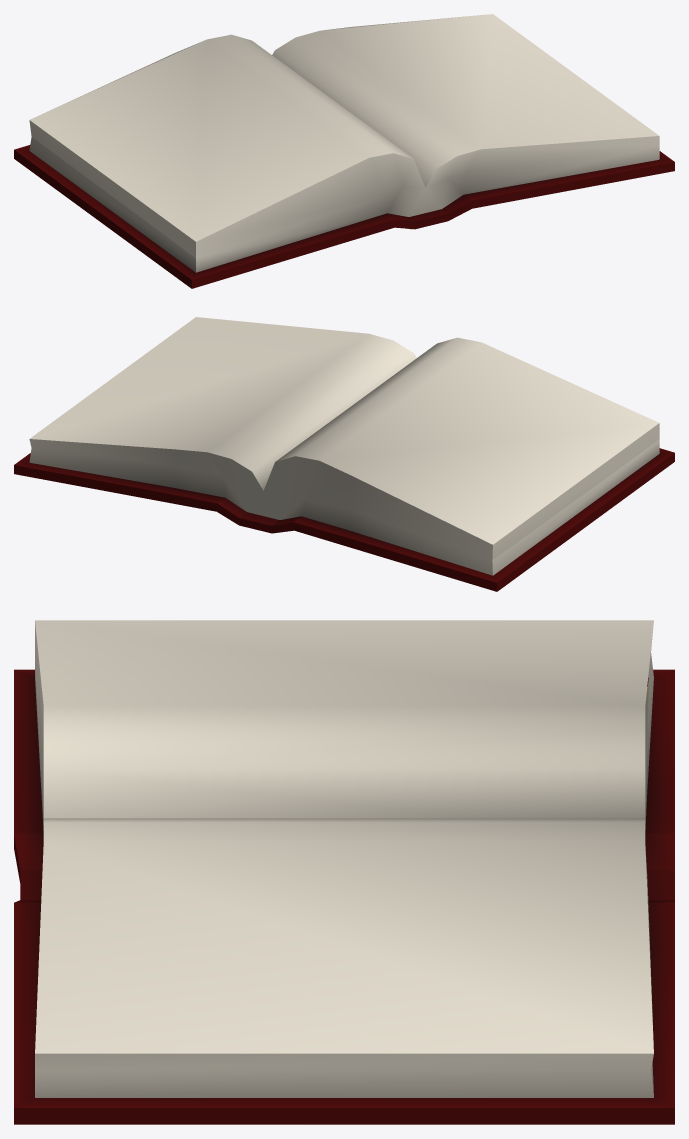
Rendered from obj_bookOpen_A_LOW.FBX.
3 views of the same model, one above another, from view 1: azimuth 30°, elevation 25°; view 2: azimuth 150°, elevation 25°; view 3: azimuth 270°, elevation 25° (orthographic). The views are drawn at different scales.
Visible parts, largest first — view 1: obj_bookOpen_A_LOW; view 2: obj_bookOpen_A_LOW; view 3: obj_bookOpen_A_LOW.
Part boxes in pixels (x1,y1,x2,y2): obj_bookOpen_A_LOW: (14, 14, 674, 288); obj_bookOpen_A_LOW: (14, 317, 674, 591); obj_bookOpen_A_LOW: (14, 620, 674, 1124).
Bounding box in the file's own units: 1.74 × 0.28 × 1.11.
